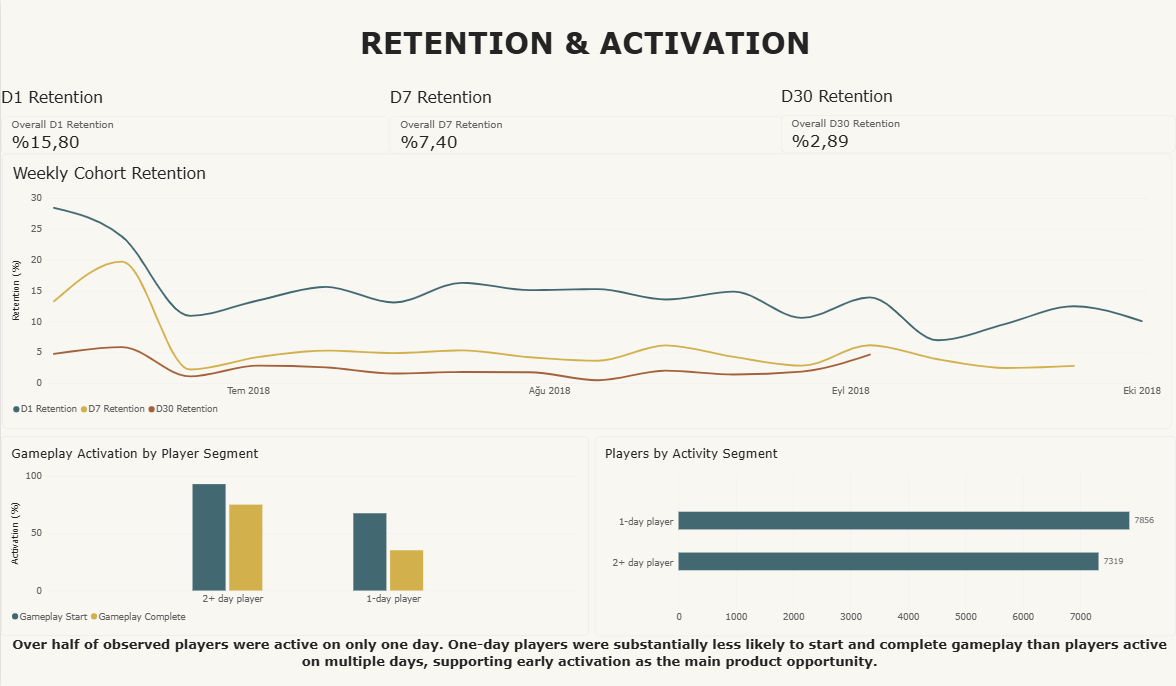

The dashboard page shown, as its layout file describes it:
{"tool":"powerbi","page":{"name":"Retention & Activation","canvas":[1920,1080],"ordinal":1},"visuals":[{"type":"textbox","box":[0,0,1908.6,71.4],"z":0},{"type":"cardVisual","title":"D1 Retention","fields":{"Data":["bi_activation_segments_v.Overall D1 Retention"]},"box":[0,102,634.3,108.6],"z":1000},{"type":"cardVisual","title":"D7 Retention","fields":{"Data":["bi_activation_segments_v.Overall D7 Retention"]},"box":[634,102,642.9,108.6],"z":2000},{"type":"cardVisual","title":"D30 Retention","fields":{"Data":["bi_activation_segments_v.Overall D30 Retention"]},"box":[1274,100,645.7,108.6],"z":3000},{"type":"lineChart","title":"Weekly Cohort Retention","fields":{"Category":["bi_weekly_retention_v.cohort_week"],"Y":["Sum(bi_weekly_retention_v.d1_retention_pct)","Sum(bi_weekly_retention_v.d7_retention_pct)","Sum(bi_weekly_retention_v.d30_retention_pct)"]},"box":[2,210,1908.6,448.6],"z":4000},{"type":"clusteredColumnChart","title":"Gameplay Activation by Player Segment","fields":{"Category":["bi_activation_segments_v.player_segment"],"Y":["Sum(bi_activation_segments_v.gameplay_start_pct)","Sum(bi_activation_segments_v.gameplay_complete_pct)"]},"box":[0,672,960,325.7],"z":5000},{"type":"clusteredBarChart","title":"Players by Activity Segment","fields":{"Category":["bi_activation_segments_v.player_segment"],"Y":["Sum(bi_activation_segments_v.players)"]},"box":[970,672,949,326],"z":6000},{"type":"textbox","box":[2,998,1918,82],"z":7000}]}

Visuals, with their boxes on the page's 1920x1080 design canvas (x1, y1, x2, y2). These are canvas units, not pixel positions in the 1176x686 screenshot, which may show the page scaled, cropped or inside an application window:
textbox: left=0, top=0, right=1909, bottom=71
"D1 Retention" cardVisual: left=0, top=102, right=634, bottom=211
"D7 Retention" cardVisual: left=634, top=102, right=1277, bottom=211
"D30 Retention" cardVisual: left=1274, top=100, right=1920, bottom=209
"Weekly Cohort Retention" lineChart: left=2, top=210, right=1911, bottom=659
"Gameplay Activation by Player Segment" clusteredColumnChart: left=0, top=672, right=960, bottom=998
"Players by Activity Segment" clusteredBarChart: left=970, top=672, right=1919, bottom=998
textbox: left=2, top=998, right=1920, bottom=1080
